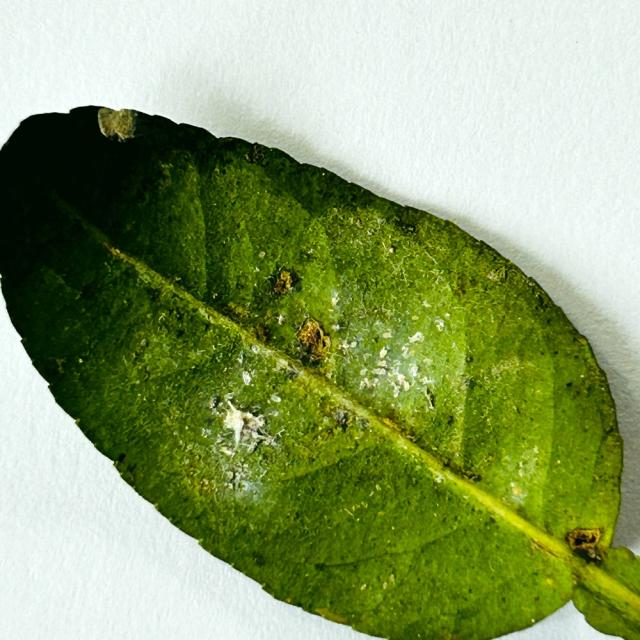Bacterial_Blight: (208, 396, 279, 465), (274, 312, 340, 377), (295, 316, 332, 363), (96, 107, 141, 142), (565, 526, 605, 562), (237, 412, 268, 449), (265, 266, 301, 297), (332, 407, 366, 435), (222, 404, 245, 441), (529, 537, 561, 559), (380, 416, 410, 438), (224, 301, 251, 322), (243, 143, 268, 165), (277, 360, 301, 381), (393, 217, 417, 235), (487, 264, 507, 282), (454, 276, 470, 297), (255, 325, 271, 344), (103, 242, 122, 257), (54, 357, 67, 373), (408, 331, 423, 344), (350, 216, 364, 229)
Lemon: (0, 106, 639, 639)
